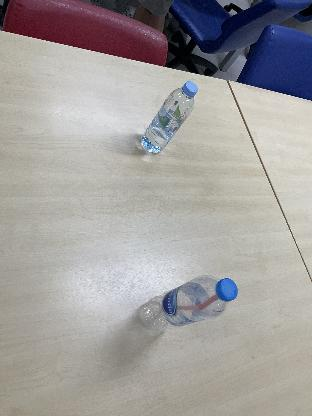Plastic Bottle: (140, 272, 238, 334), (140, 81, 198, 156)
